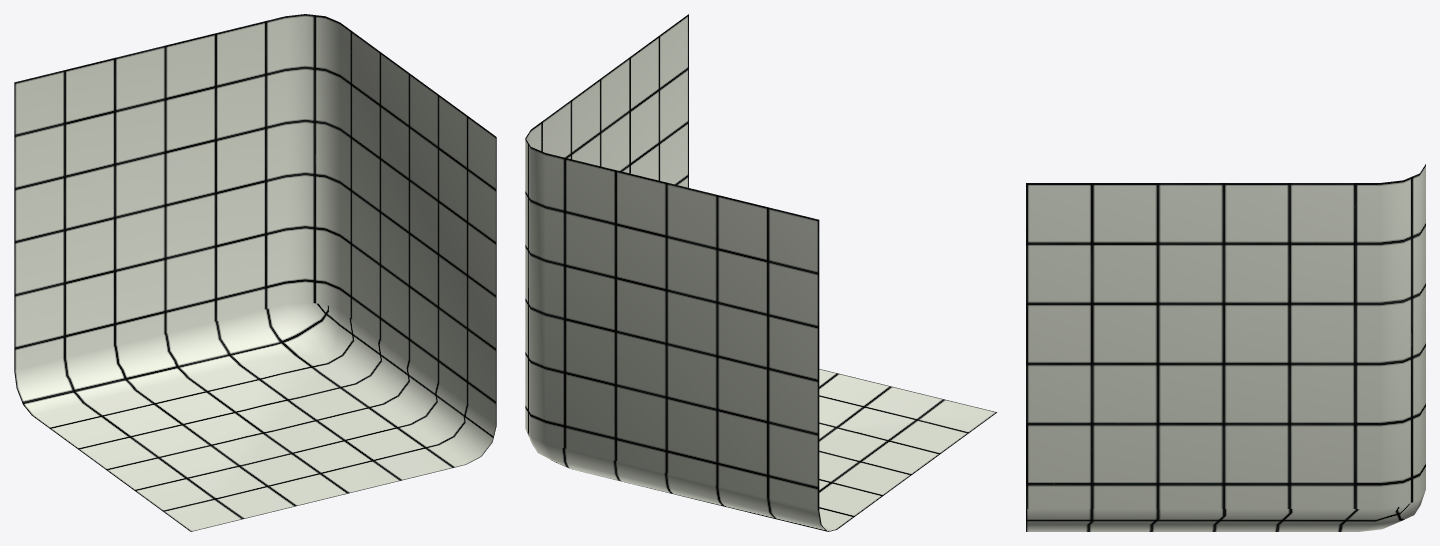
Rendered from Pool_corner.fbx.
3 renders of one model, left to right at view 1: azimuth 30°, elevation 25°; view 2: azimuth 150°, elevation 25°; view 3: azimuth 270°, elevation 25°, orthographic. The views are drawn at different scales.
Parts seen in each view (by area): view 1: Pool_corner; view 2: Pool_corner; view 3: Pool_corner.
Part boxes in pixels (x1,y1,x2,y2): Pool_corner: [14, 14, 496, 531]; Pool_corner: [525, 14, 996, 531]; Pool_corner: [1026, 164, 1425, 531].
Bounding box in the file's own units: 100 × 100 × 100.
